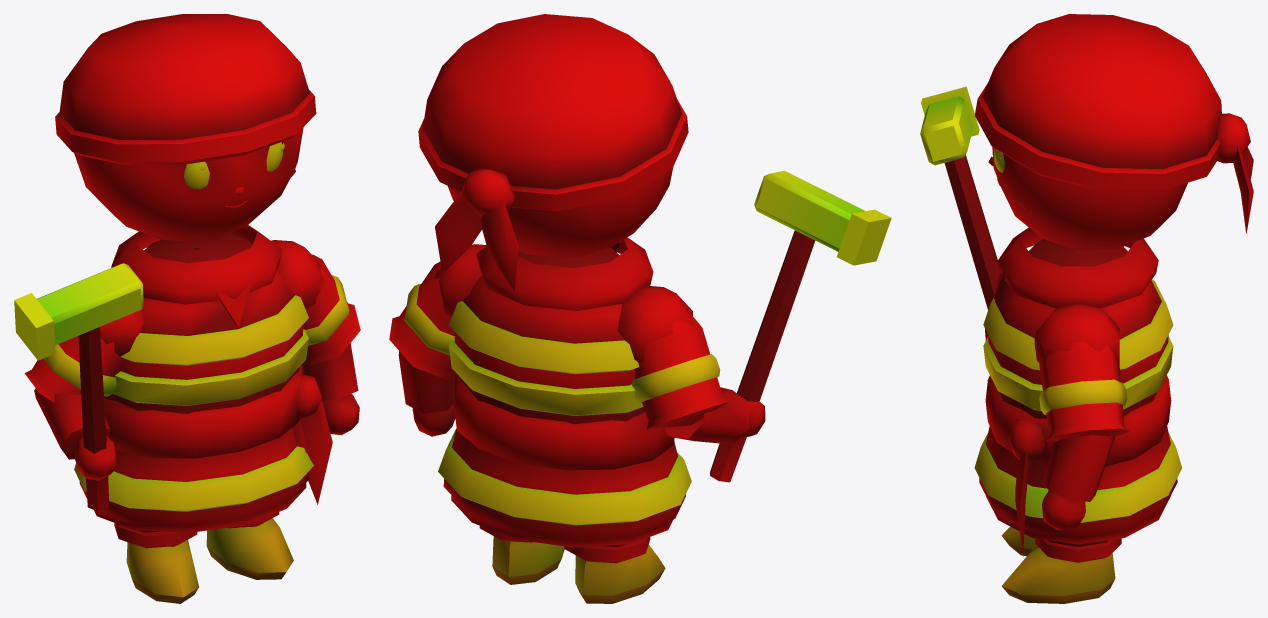
Rendered from PirateDeckhand_build.glb.
3 views of the same model, side by side, from view 1: azimuth 30°, elevation 25°; view 2: azimuth 150°, elevation 25°; view 3: azimuth 270°, elevation 25° (orthographic). The views are drawn at different scales.
Parts seen in each view (by area): view 1: PirateDeckhand_build; view 2: PirateDeckhand_build; view 3: PirateDeckhand_build.
Boxes of the visible parts, left/top/right/bottom form: PirateDeckhand_build: left=14, top=14, right=360, bottom=603; PirateDeckhand_build: left=389, top=14, right=891, bottom=603; PirateDeckhand_build: left=920, top=14, right=1253, bottom=603.
Bounding box in the file's own units: 0.6447 × 0.8097 × 0.4629.
